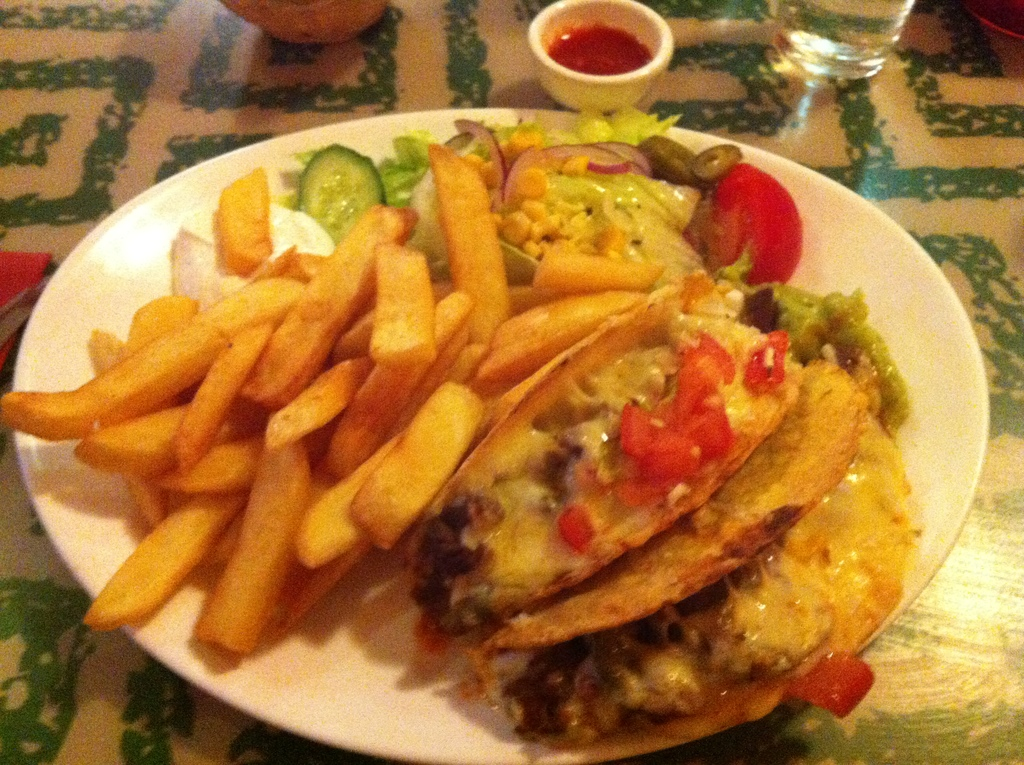French fries: (30, 161, 650, 666)
